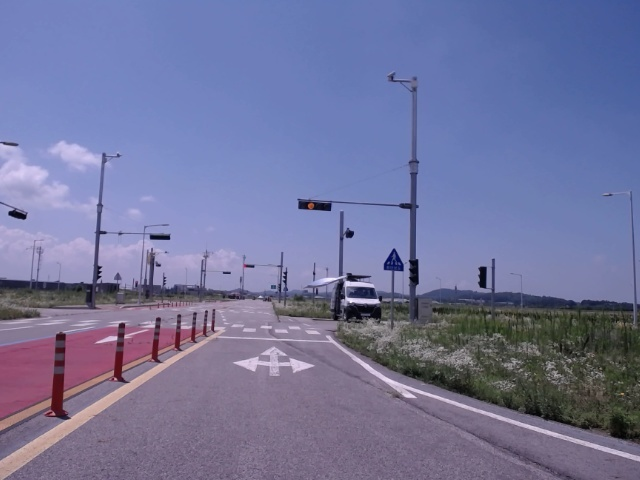orange_4: (297, 201, 331, 212)
